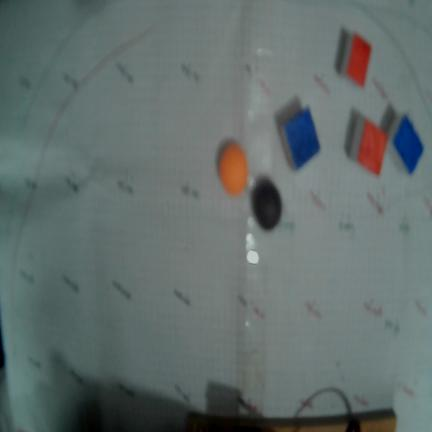circle_blue: (252, 177, 282, 230)
circle_orange: (219, 143, 248, 195)
rectangle_blue: (391, 117, 424, 177)
rectangle_orange: (345, 28, 371, 87)
square_blue: (283, 107, 319, 168)
square_orange: (356, 119, 389, 180)
